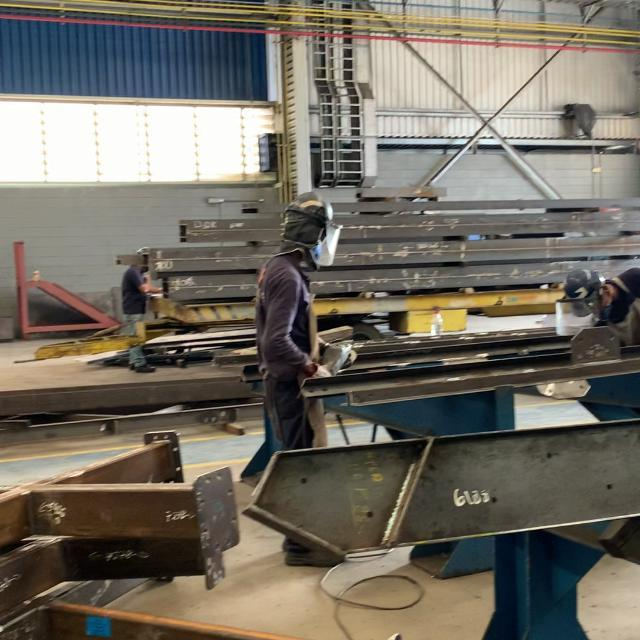face-shield: (305, 224, 337, 266), (563, 296, 598, 310)
glove: (312, 366, 333, 378)
helmet: (286, 190, 333, 222), (583, 269, 590, 302)
person: (255, 191, 354, 441), (564, 266, 636, 339)
safety-shoe: (283, 545, 347, 563)
